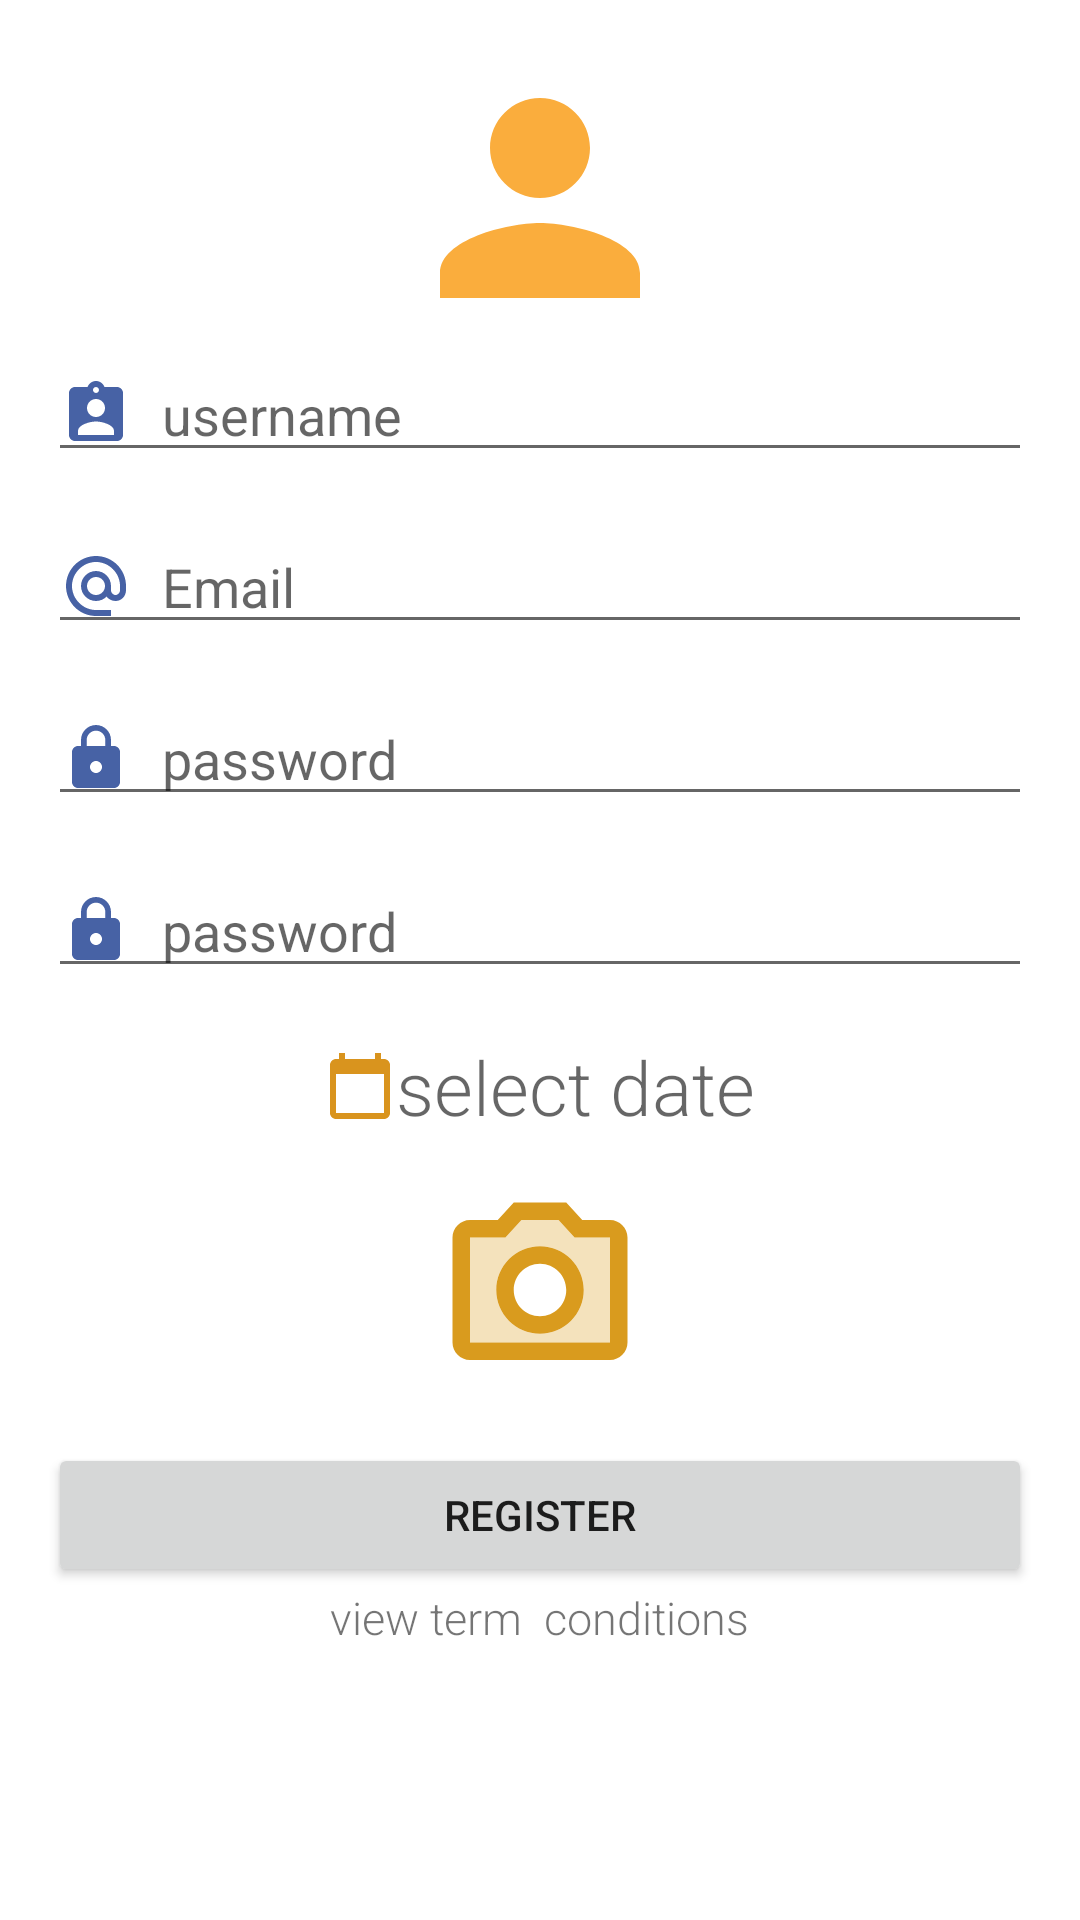

Point at icon controls on the screen. Image size 1080×1920, points as (x=x, y=y).
cameraimg: (x=540, y=1281)
person: (x=540, y=198)
